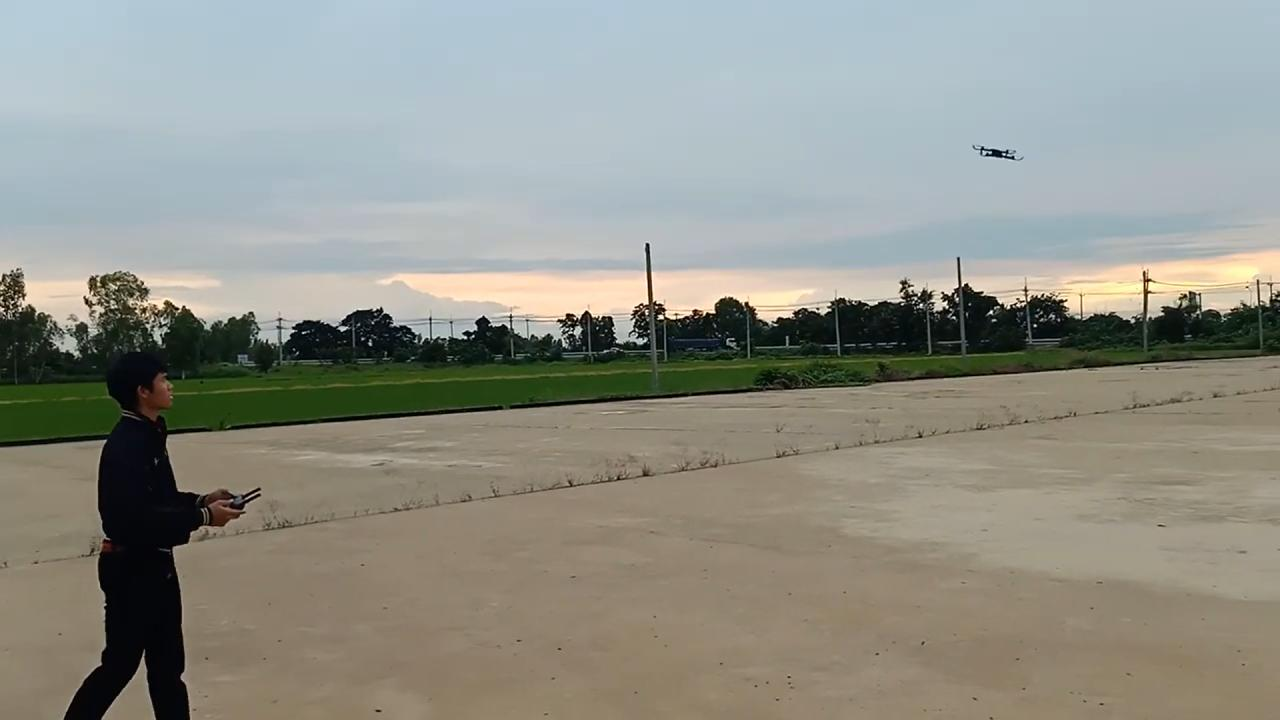Drone: (964, 132, 1032, 174)
